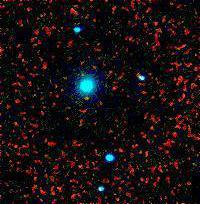star: (72, 85, 102, 115)
